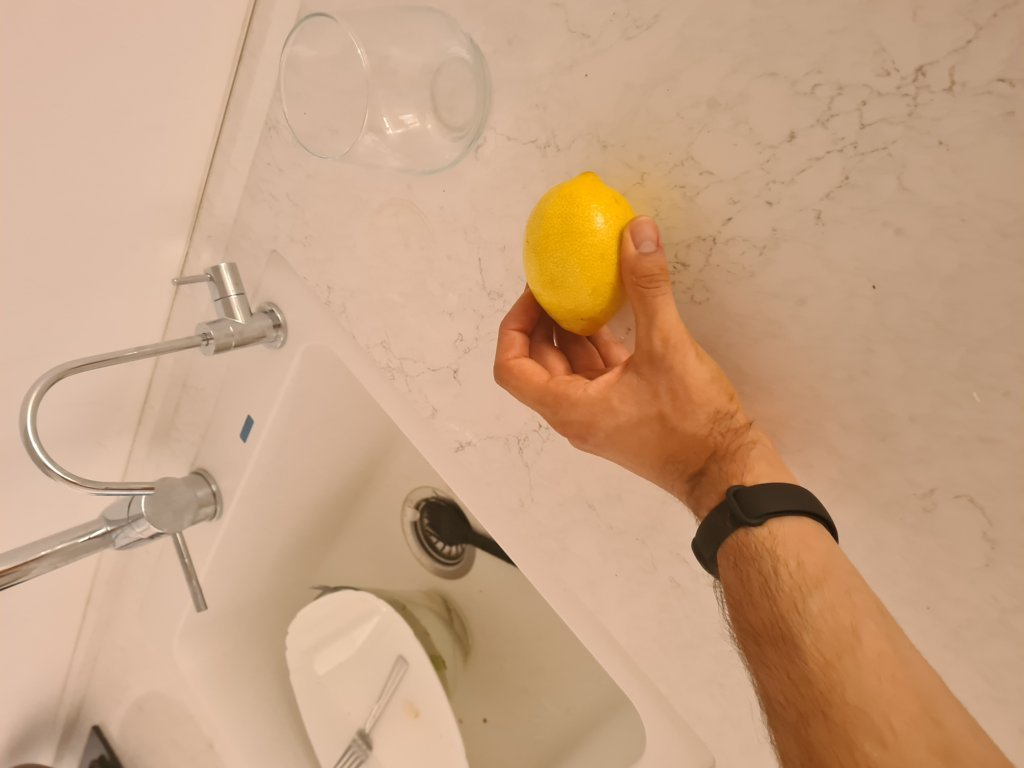lemon: (530, 181, 640, 330)
